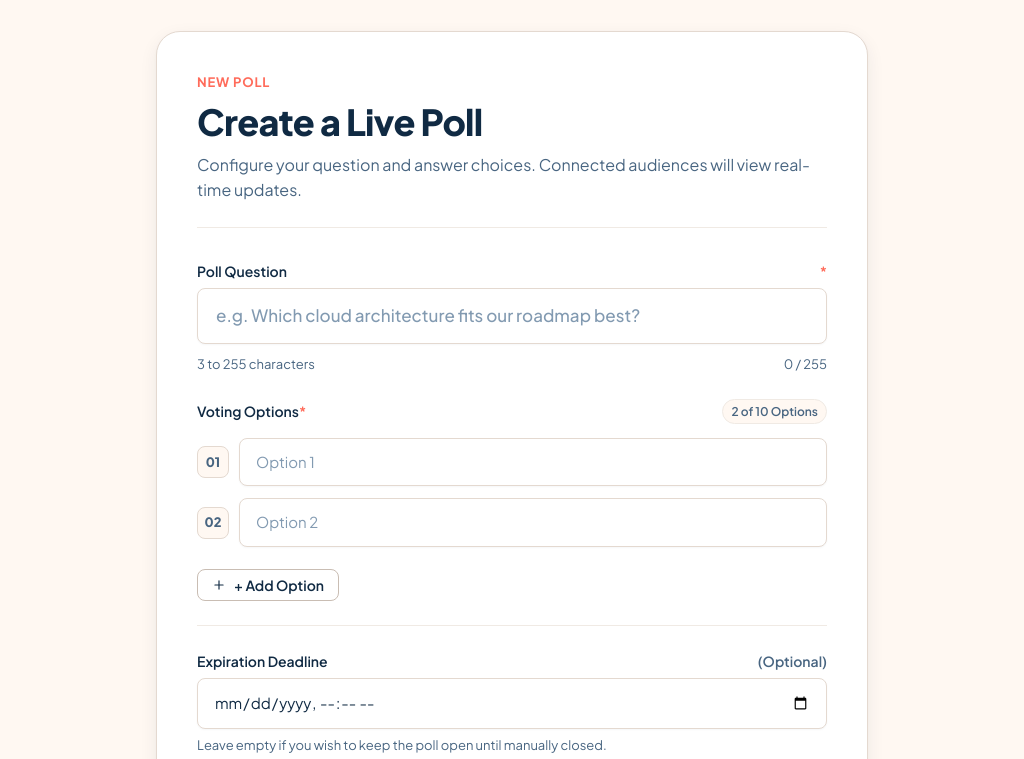
Scenario: CreatePollPage Validation & Interactions › submits valid poll and shows success state with copy link
Type "Best database?" into the field labelled "Poll Question *".
click(512, 316); type("Best database?")  # box x1=197 y1=288 x2=827 y2=344
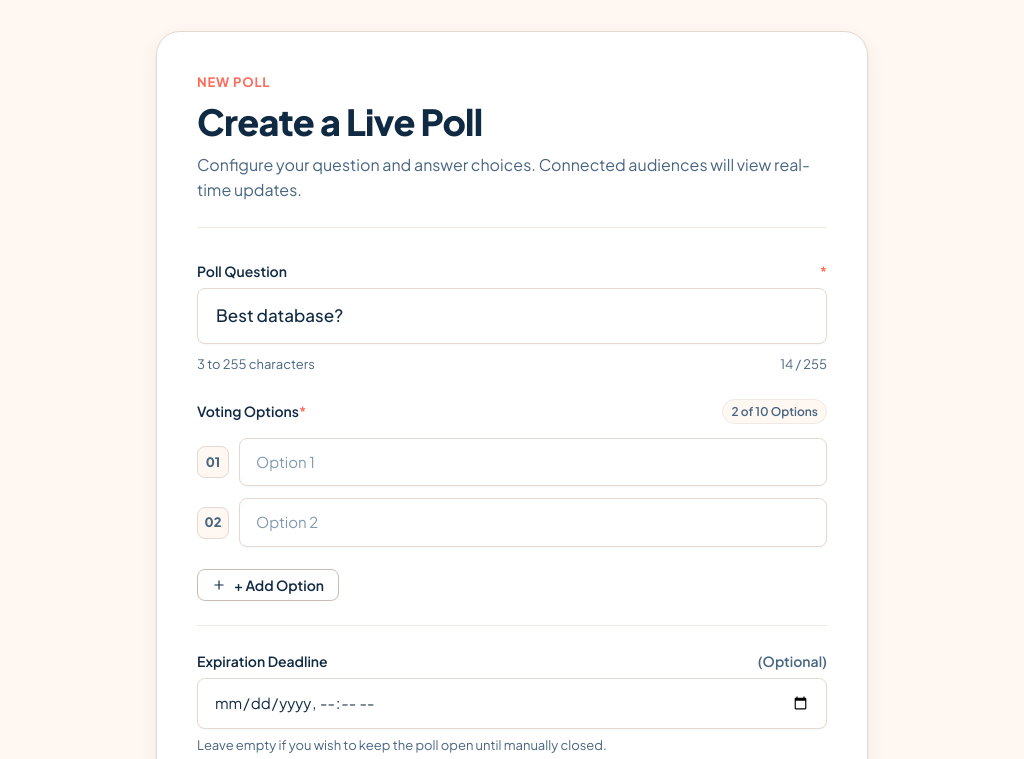
Type "PostgreSQL" into the field with placeholder "Option 1".
click(533, 462); type("PostgreSQL")  # box x1=239 y1=438 x2=827 y2=486
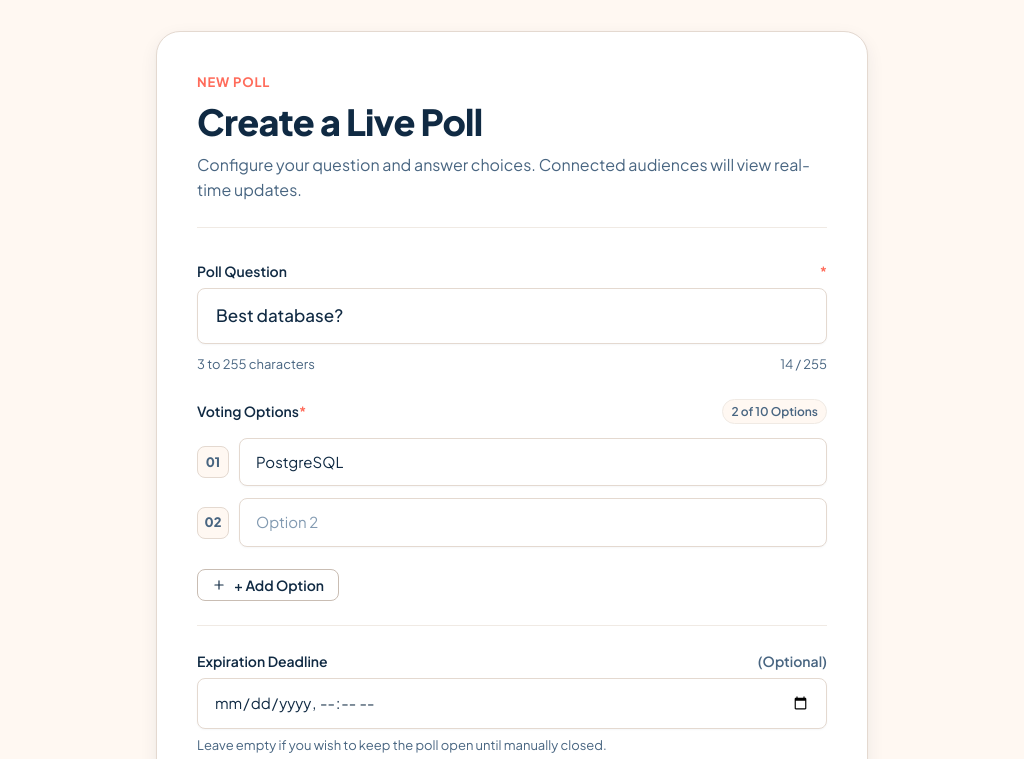
Type "MongoDB" into the field with placeholder "Option 2".
click(533, 523); type("MongoDB")  # box x1=239 y1=498 x2=827 y2=547
(page scrolled)
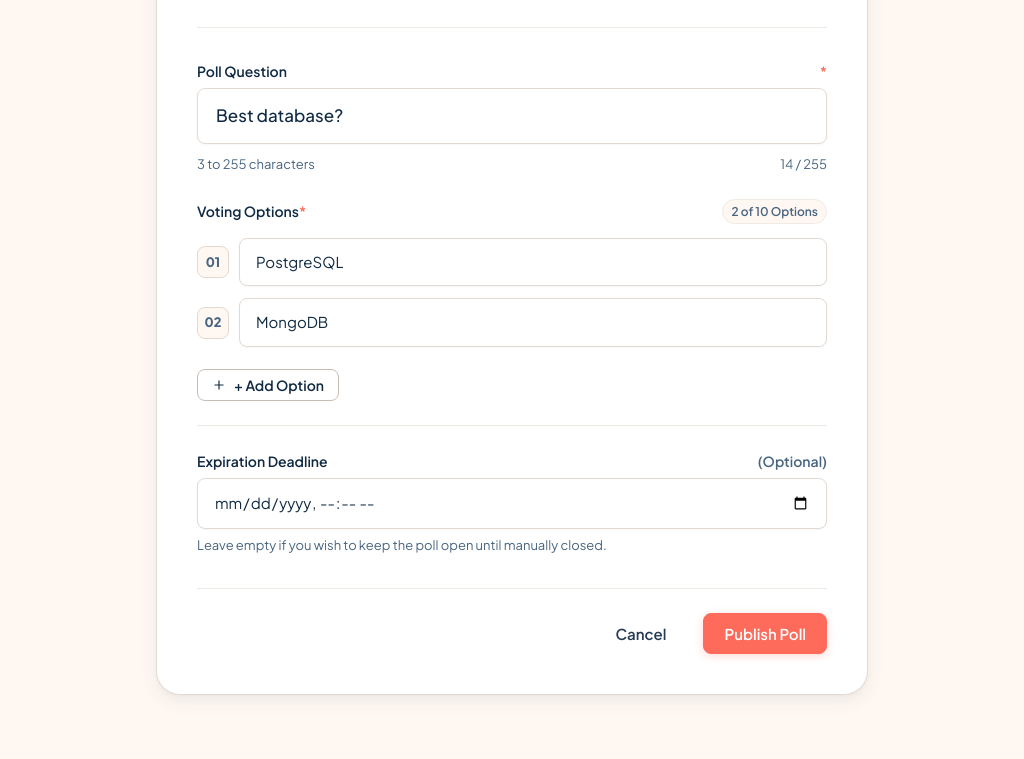
Click the button "Publish Poll".
click(765, 633)  # box x1=704 y1=613 x2=827 y2=654
(page scrolled)
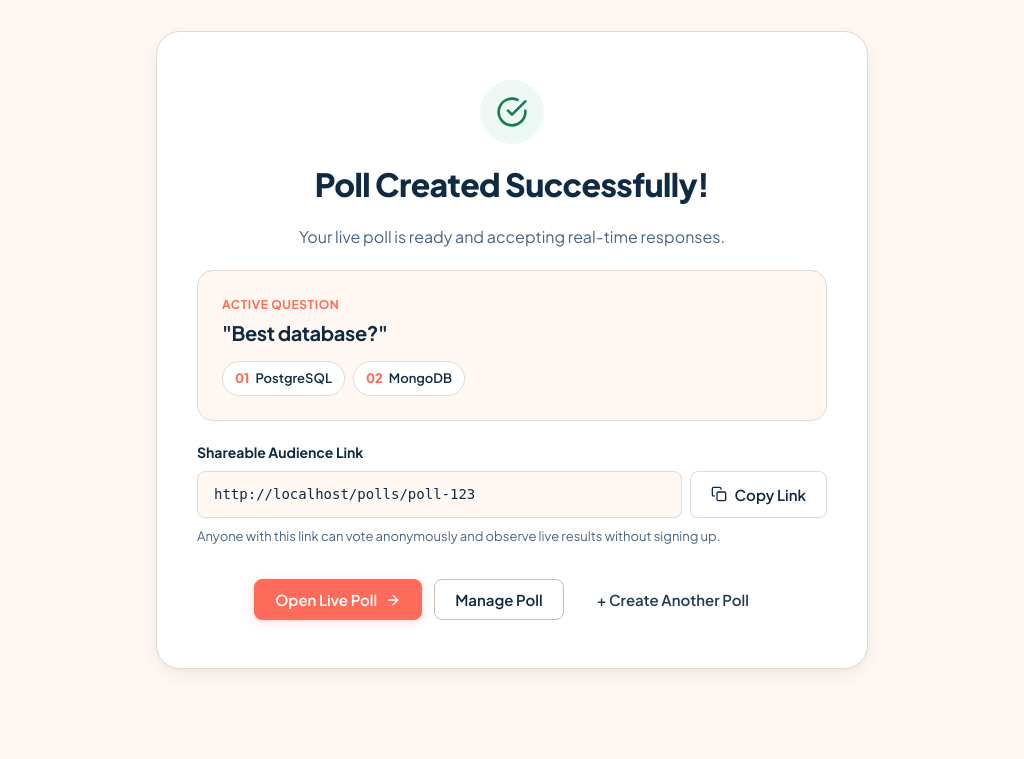
Now the heading "Poll Created Successfully!" is shown, box x1=315 y1=164 x2=709 y2=204
Now the text "Open Live Poll" is shown, box x1=275 y1=590 x2=377 y2=609
Now the text "Copy Link" is shown, box x1=735 y1=485 x2=806 y2=504
